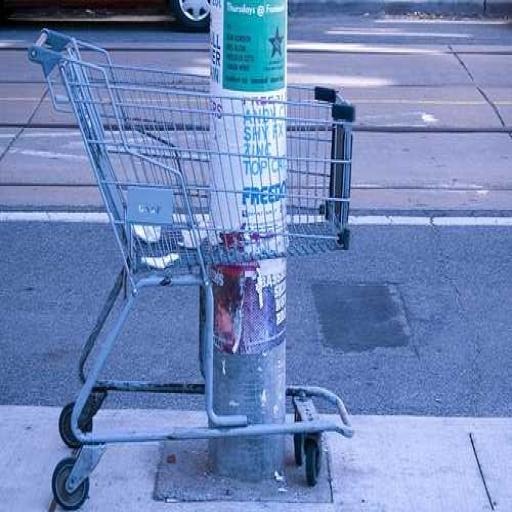shopping_cart: (27, 24, 357, 512)
